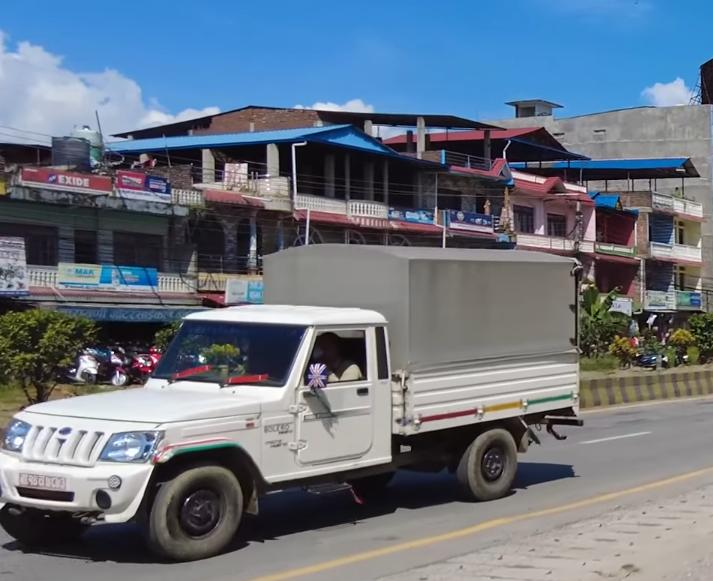scooter: (68, 330, 159, 391)
transport_vehicle: (0, 234, 587, 563)
